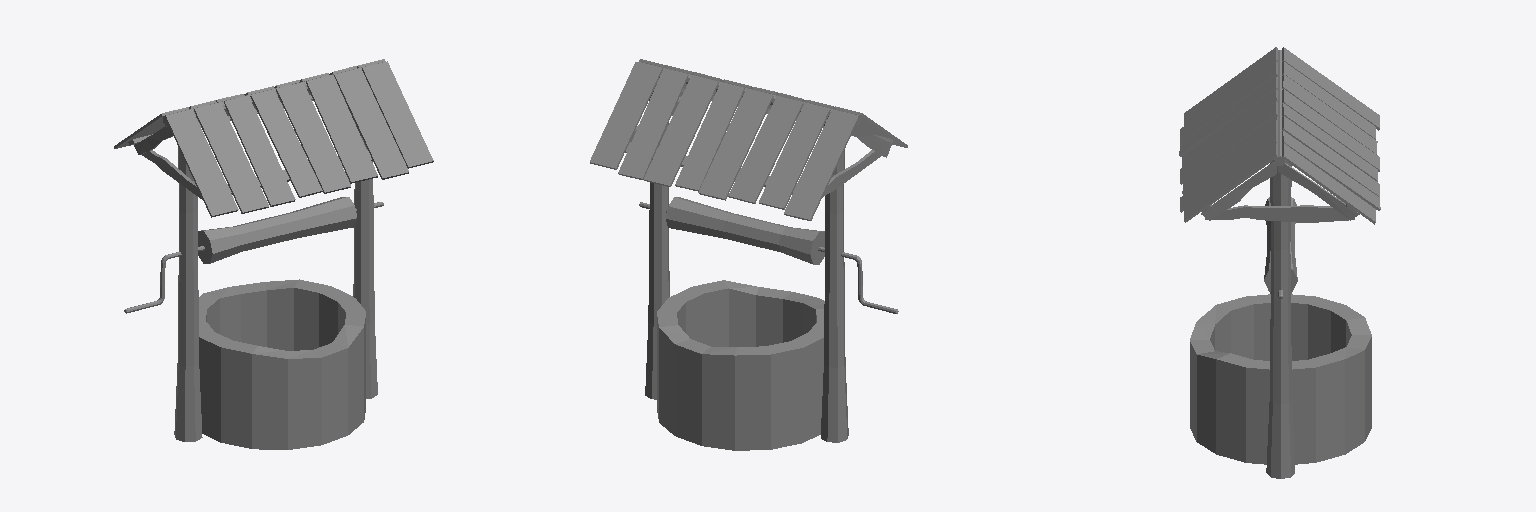
Rendered from well.obj.
The picture shows the model from 3 angles: view 1: azimuth 30°, elevation 25°; view 2: azimuth 150°, elevation 25°; view 3: azimuth 270°, elevation 25°; orthographic projection.
Size of the model in its own units: 2.15 by 2.58 by 1.44.